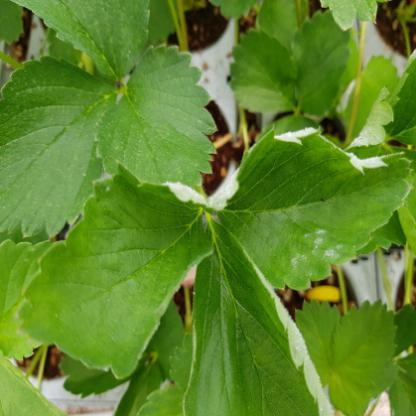Strawberry_Powdery_Mildew_Leaf: (16, 160, 214, 382), (206, 127, 413, 290), (182, 212, 332, 415), (336, 56, 400, 146), (344, 86, 397, 157)
